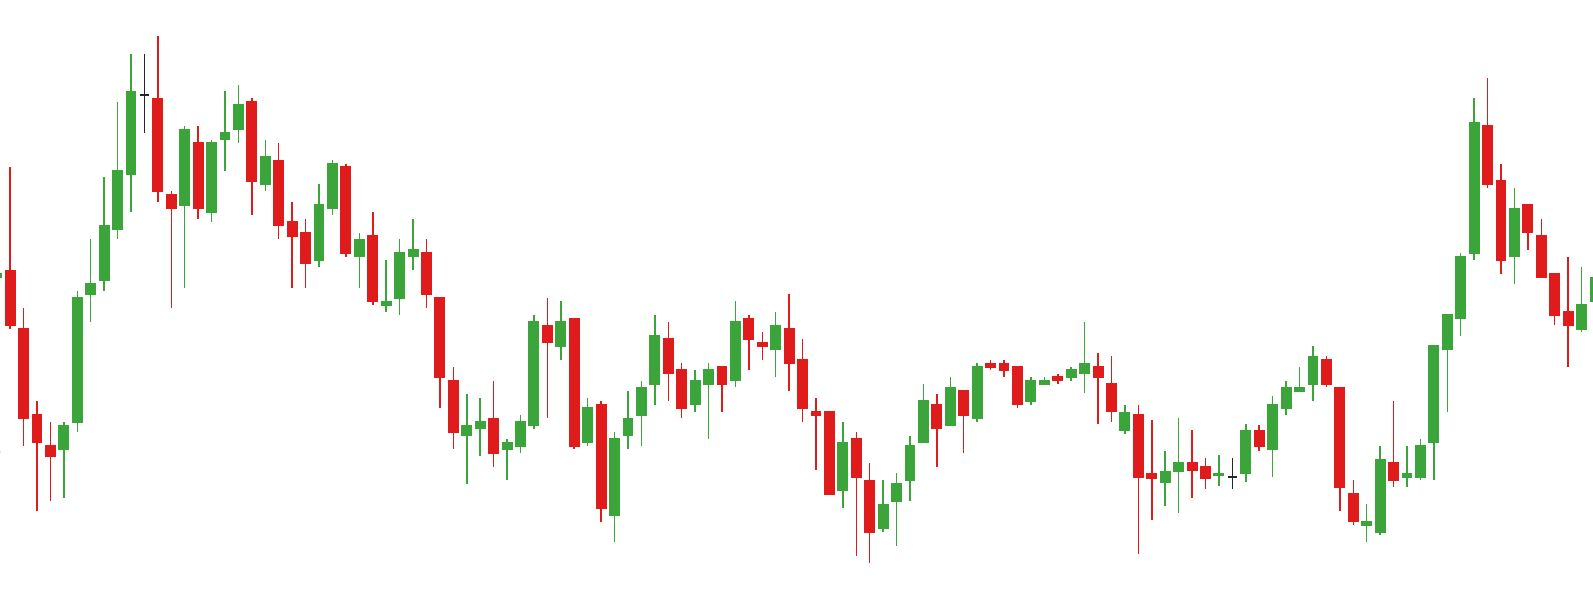buy: (1148, 401, 1387, 545)
sell: (646, 302, 757, 387)
